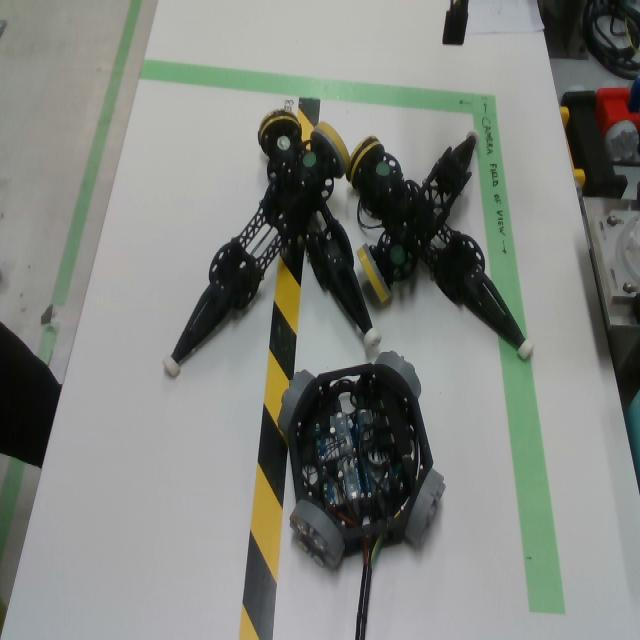body: (289, 363, 434, 557)
body_connector: (289, 500, 345, 572), (404, 469, 446, 551), (278, 369, 315, 436), (374, 351, 422, 400)
leg: (162, 121, 350, 377), (356, 128, 480, 303), (422, 224, 535, 359), (302, 205, 382, 348), (347, 136, 419, 227), (258, 111, 302, 180)
leg_connector: (310, 121, 350, 180), (346, 135, 385, 191), (357, 244, 391, 304), (258, 109, 302, 155)
leg_marker: (391, 247, 404, 265), (376, 161, 390, 176), (277, 136, 290, 151), (303, 152, 316, 167)
